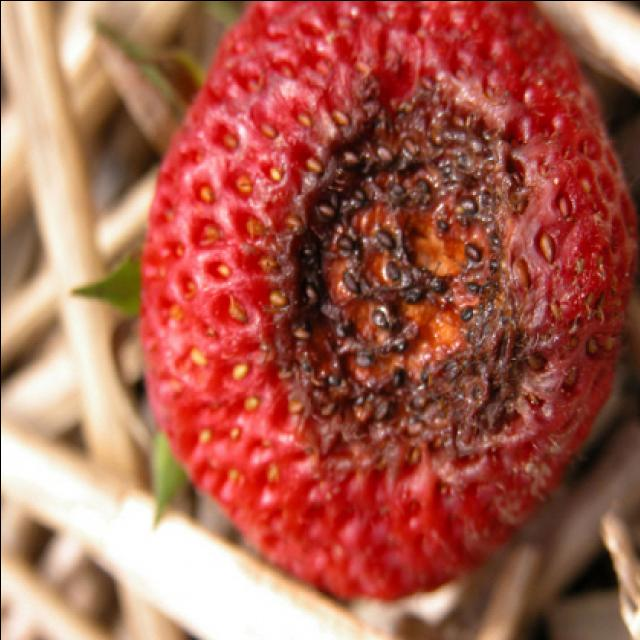Anthracnose Fruit Rot: (248, 67, 559, 479)
